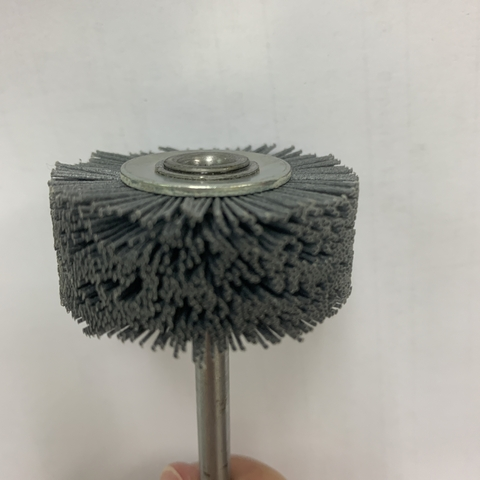Wheel Brush: (46, 144, 357, 478), (45, 133, 353, 458), (46, 147, 408, 389)
